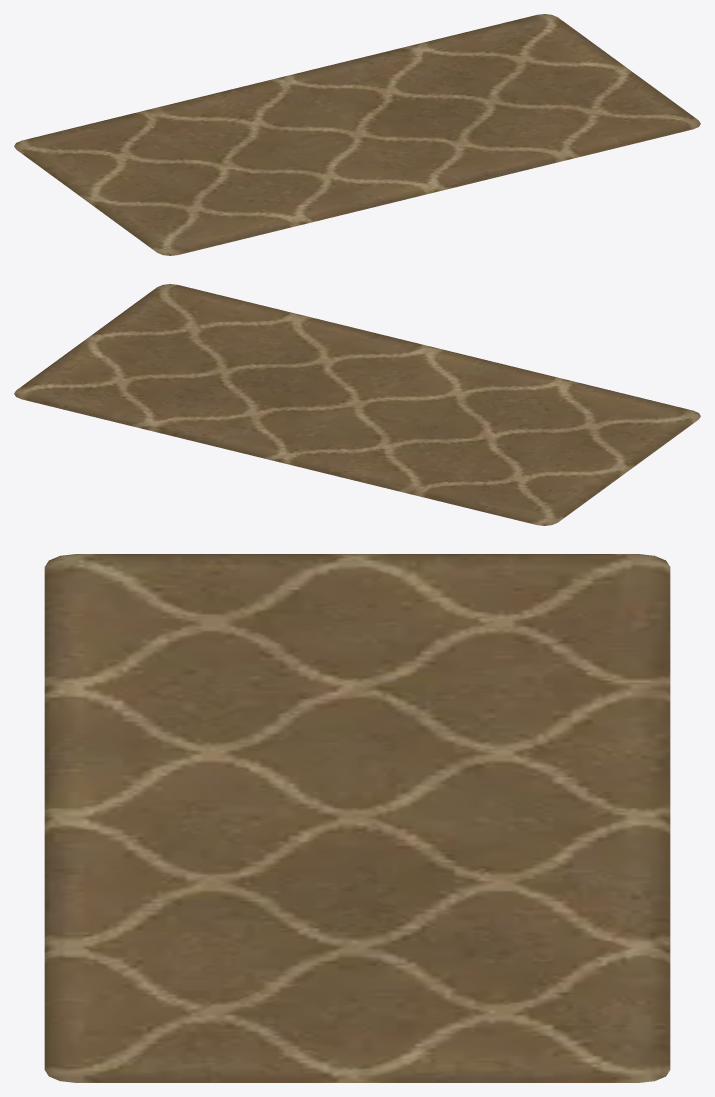
The model's file is kitchenmat.glb.
The picture shows the model from 3 angles, top to bottom: view 1: azimuth 30°, elevation 25°; view 2: azimuth 150°, elevation 25°; view 3: azimuth 270°, elevation 25°; orthographic projection. The views are drawn at different scales.
Parts seen in each view (by area): view 1: Main__mMain.006; view 2: Main__mMain.006; view 3: Main__mMain.006.
Part boxes in pixels (bbox=[...]): Main__mMain.006: bbox=[14, 14, 700, 255]; Main__mMain.006: bbox=[14, 284, 700, 525]; Main__mMain.006: bbox=[44, 554, 670, 1082].
Size of the model in its own units: 1 by 0.0015 by 0.5.
Materials: 1 (1 with a texture image).
